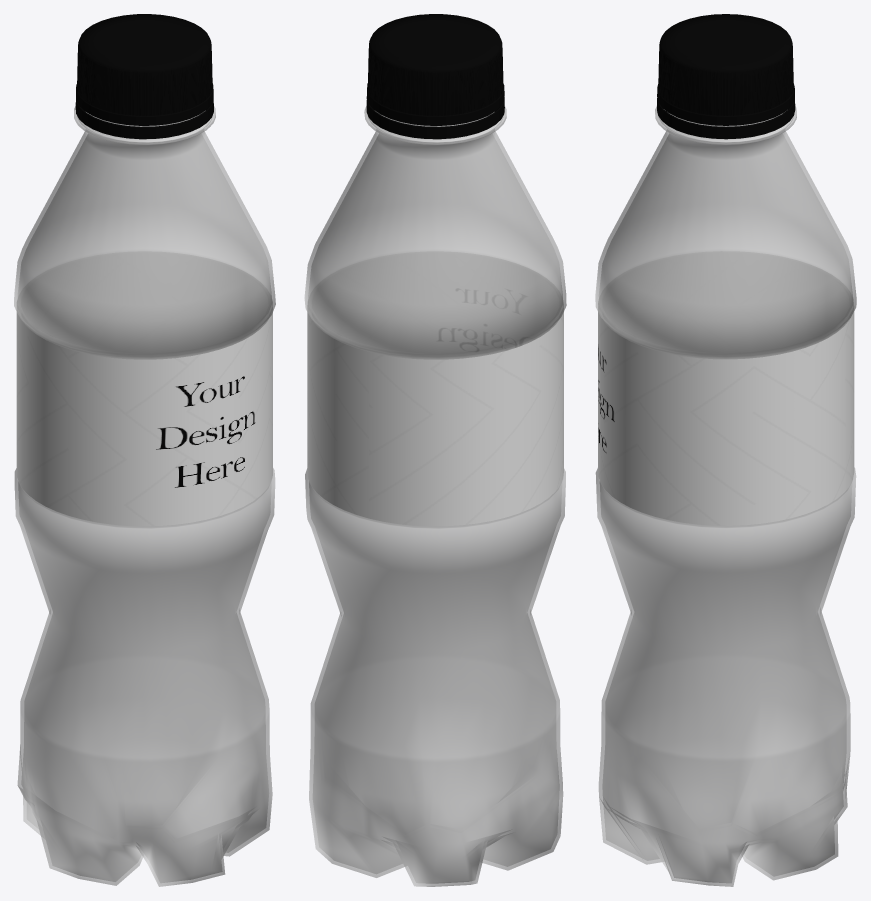
The model's file is Soft drinks bottle.glb.
3 views of the same model, side by side, from view 1: azimuth 30°, elevation 25°; view 2: azimuth 150°, elevation 25°; view 3: azimuth 270°, elevation 25° (orthographic).
Visible parts, largest first — view 1: Bottle_Bottle.001_Cylinder.008, Label_Bottle.001_Cylinder.007, Plastic_Neck_Bottle.001_Cylinder.006; view 2: Bottle_Bottle.001_Cylinder.008, Label_Bottle.001_Cylinder.007, Plastic_Neck_Bottle.001_Cylinder.006; view 3: Bottle_Bottle.001_Cylinder.008, Label_Bottle.001_Cylinder.007, Plastic_Neck_Bottle.001_Cylinder.006.
Part boxes in pixels (bbox=[...]): Bottle_Bottle.001_Cylinder.008: bbox=[14, 106, 275, 886]; Label_Bottle.001_Cylinder.007: bbox=[16, 300, 272, 526]; Plastic_Neck_Bottle.001_Cylinder.006: bbox=[75, 14, 213, 139]; Bottle_Bottle.001_Cylinder.008: bbox=[304, 106, 566, 886]; Label_Bottle.001_Cylinder.007: bbox=[307, 299, 563, 526]; Plastic_Neck_Bottle.001_Cylinder.006: bbox=[366, 14, 504, 139]; Bottle_Bottle.001_Cylinder.008: bbox=[595, 106, 856, 886]; Label_Bottle.001_Cylinder.007: bbox=[598, 300, 854, 525]; Plastic_Neck_Bottle.001_Cylinder.006: bbox=[657, 14, 795, 139].
Size of the model in its own units: 0.6735 by 2.29 by 0.6713.
3 materials, 1 textured.
